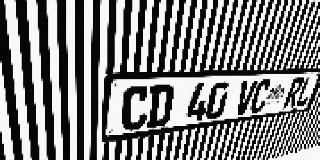0: (204, 82, 231, 120)
4: (185, 82, 212, 123)
C: (120, 86, 150, 132), (248, 79, 273, 114)
D: (146, 84, 175, 128)
L: (294, 77, 316, 107)
R: (283, 78, 305, 109)
V: (233, 80, 258, 116)
